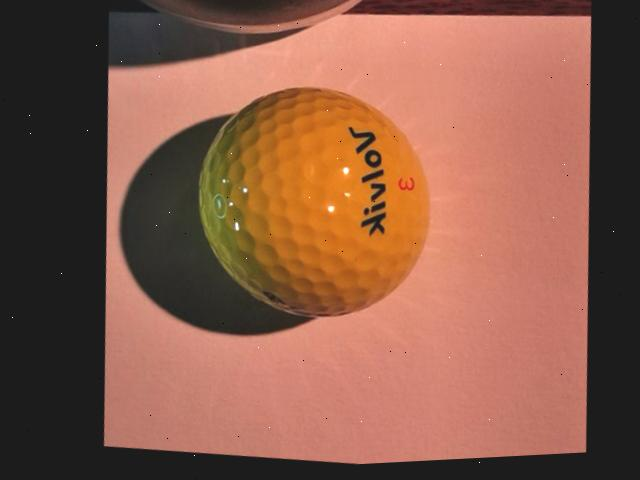Ball: (170, 74, 450, 340)
Volvik: (332, 130, 394, 245)
